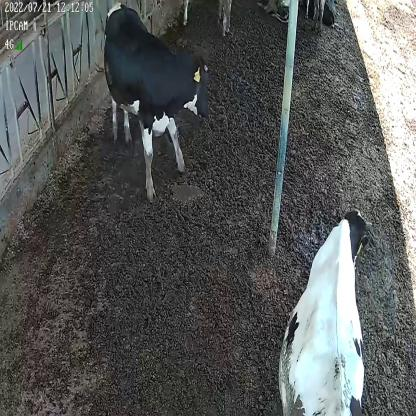cow: (104, 1, 209, 200), (277, 203, 373, 416)
